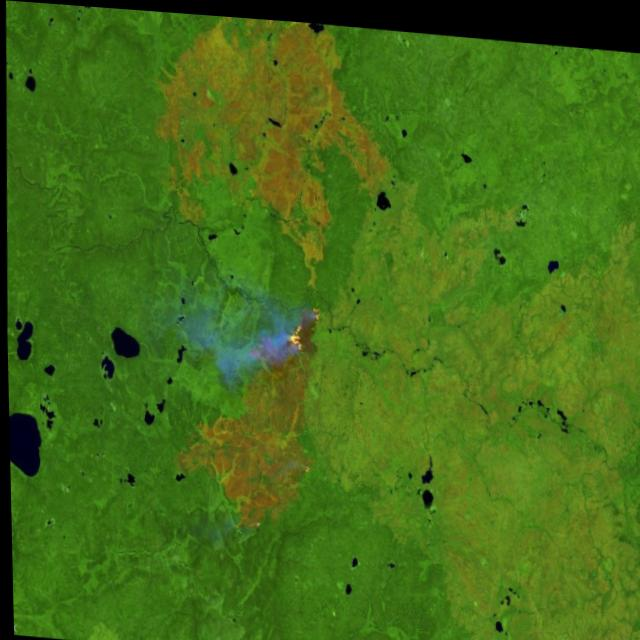fire: (278, 289, 327, 360)
